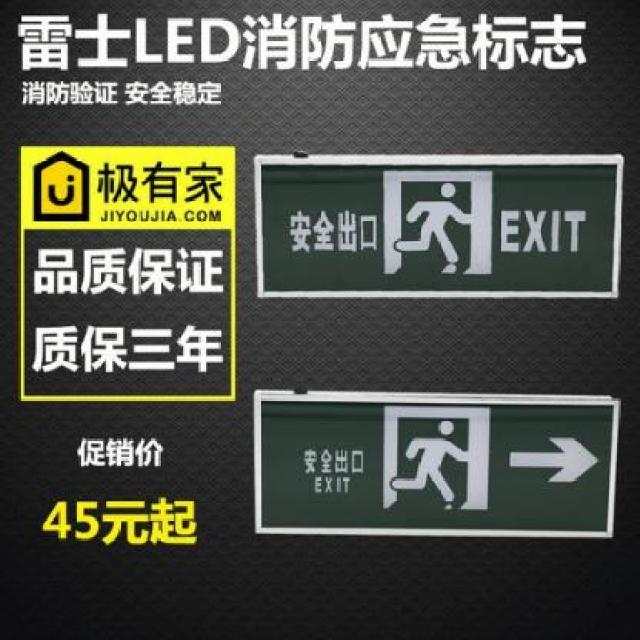exit_sign: (247, 388, 618, 539), (254, 151, 616, 297)
